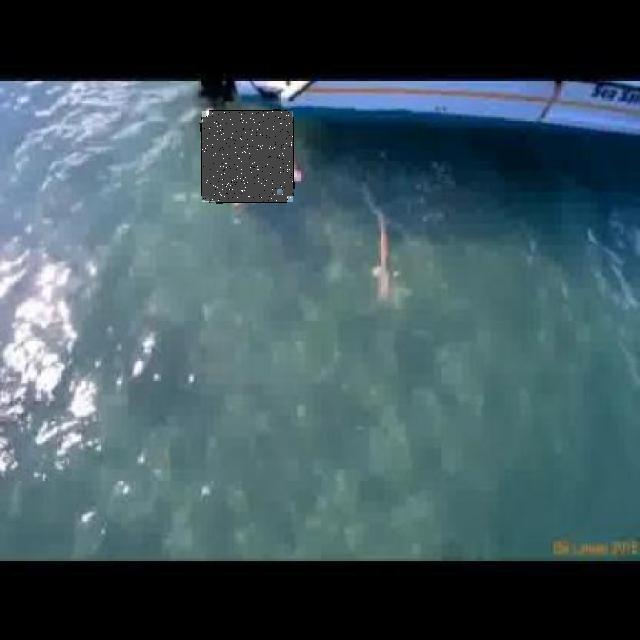swimming: (202, 111, 293, 202)
